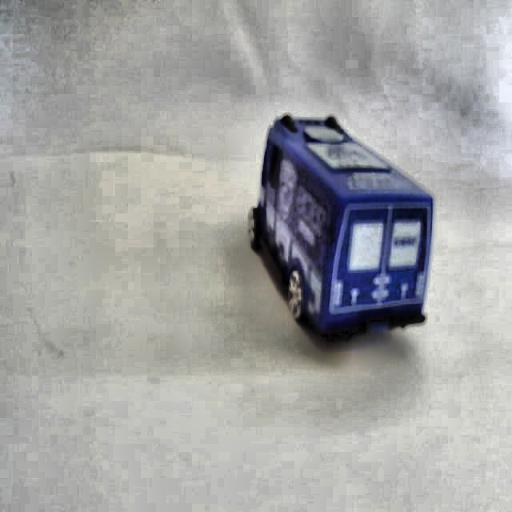police car: (246, 103, 436, 349)
